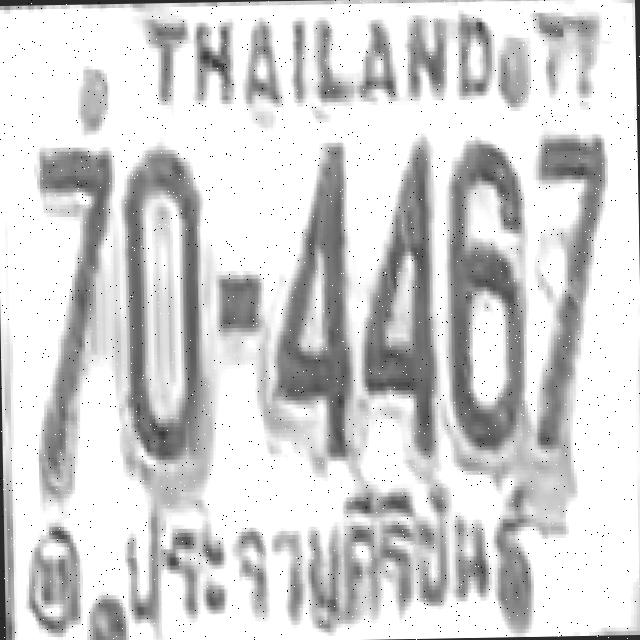0: (119, 142, 208, 470)
4: (262, 134, 352, 461), (357, 135, 438, 458)
6: (444, 137, 526, 448)
7: (33, 144, 115, 378), (532, 129, 610, 363), (534, 130, 608, 322)
PrachuapKhiriKhan: (110, 476, 530, 626)
